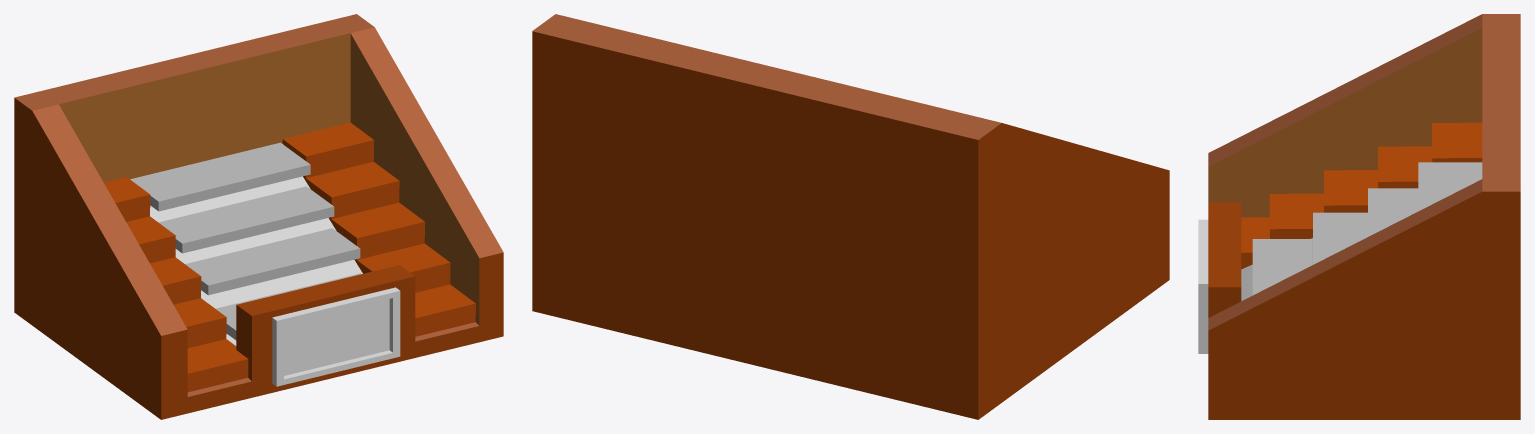
The model's file is lowpoly_bleachers.fbx.
The picture shows the model from 3 angles, left to right: view 1: azimuth 30°, elevation 25°; view 2: azimuth 150°, elevation 25°; view 3: azimuth 270°, elevation 25°; orthographic projection. The views are drawn at different scales.
Visible parts, largest first — view 1: bleachers, sign; view 2: bleachers; view 3: bleachers, sign.
Boxes of the visible parts, x1,y1,x2,y2 form: bleachers: (14,14,503,419); sign: (272,287,400,386); bleachers: (532,14,1169,419); bleachers: (1208,14,1520,419); sign: (1198,219,1208,353).
Bounding box in the file's own units: 1309 × 785 × 1003.
